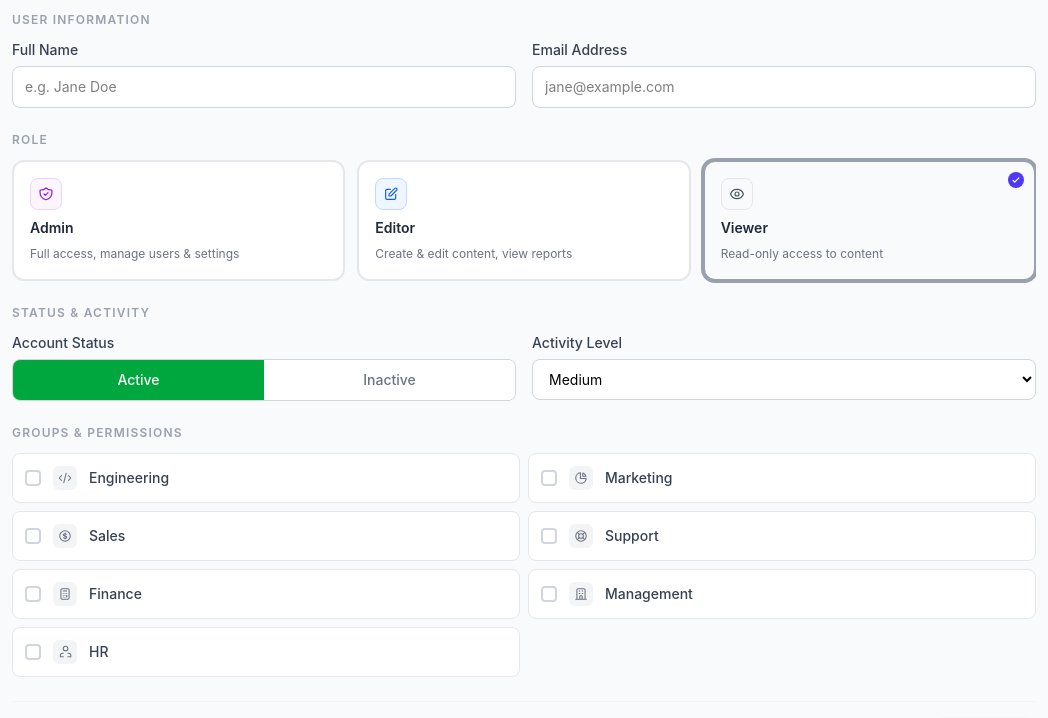
Test: Groups & Permissions › can select multiple groups independently
Click the text "Marketing". click: coordinates (639, 478)
box: [605,468,672,488]
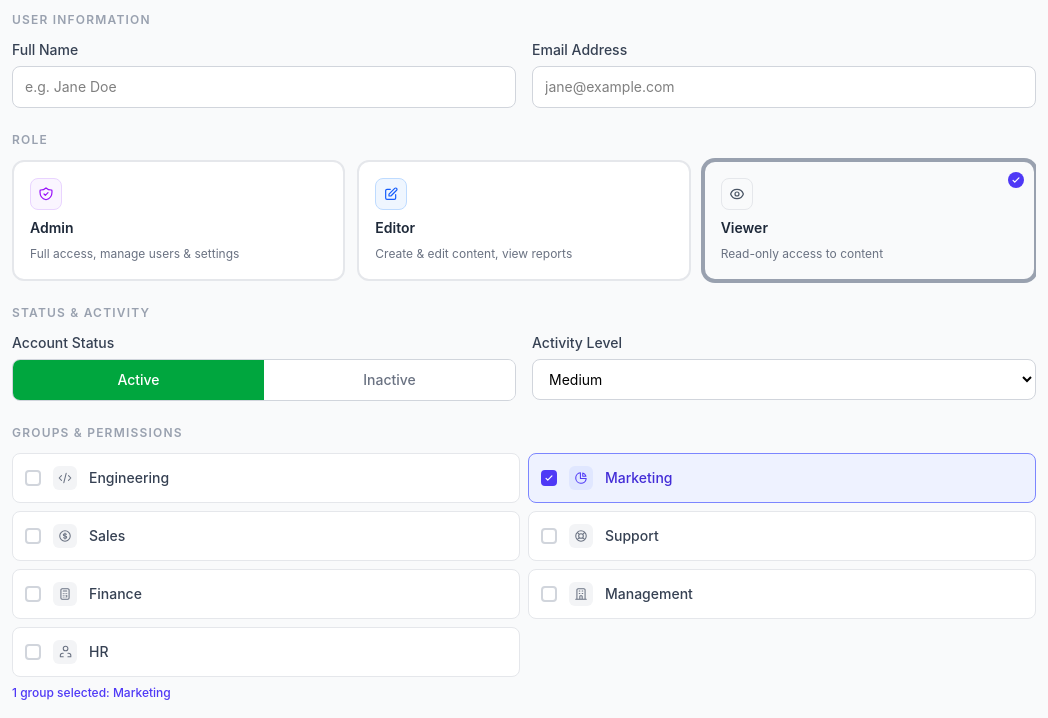
Click the text "Finance". click: coordinates (115, 594)
box: [89,584,142,604]
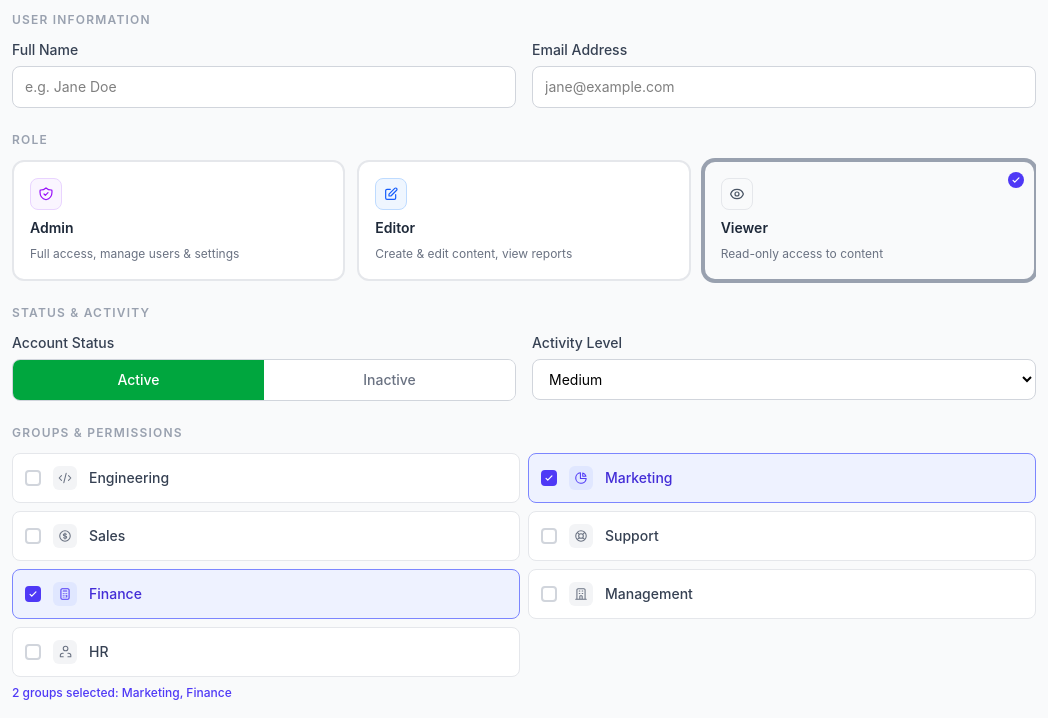
Check: the checkbox labelled "Engineering" is not checked, box [12,452,520,502]
Check: the checkbox labelled "Marketing" is checked, box [528,452,1036,502]
Check: the checkbox labelled "Finance" is checked, box [12,568,520,618]
